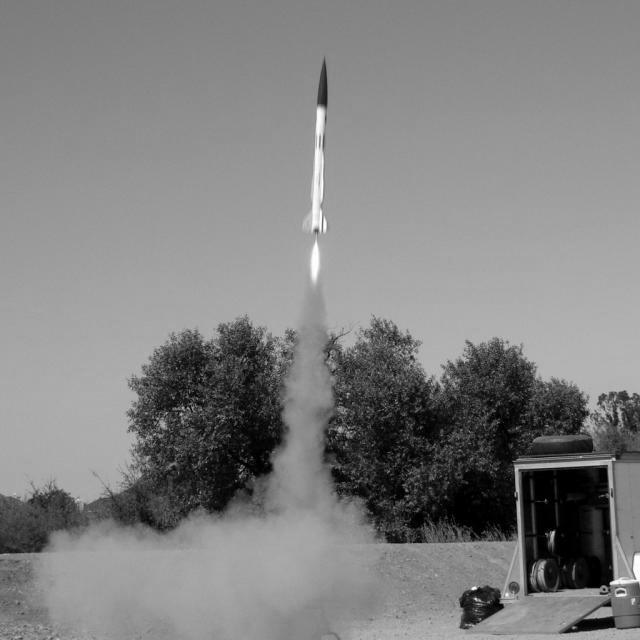missile: (300, 51, 335, 232)
